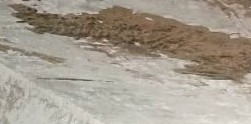Spalling: (7, 3, 251, 81), (1, 43, 65, 66), (202, 1, 251, 19)
